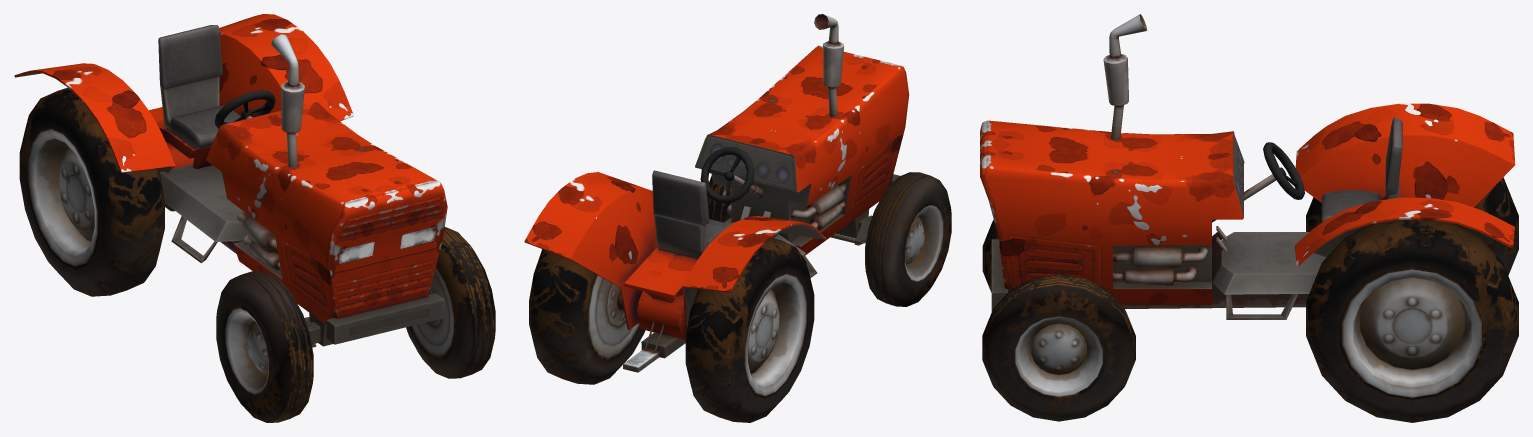
Rendered from Tractor01.FBX.
3 renders of one model, left to right at view 1: azimuth 30°, elevation 25°; view 2: azimuth 150°, elevation 25°; view 3: azimuth 270°, elevation 25°, orthographic. The views are drawn at different scales.
Visible parts, largest first — view 1: Tractor01; view 2: Tractor01; view 3: Tractor01.
Boxes of the visible parts, x1,y1,x2,y2 form: Tractor01: (14, 14, 495, 422); Tractor01: (524, 14, 951, 422); Tractor01: (980, 14, 1518, 422).
Size of the model in its own units: 1.77 by 2.45 by 3.5.
